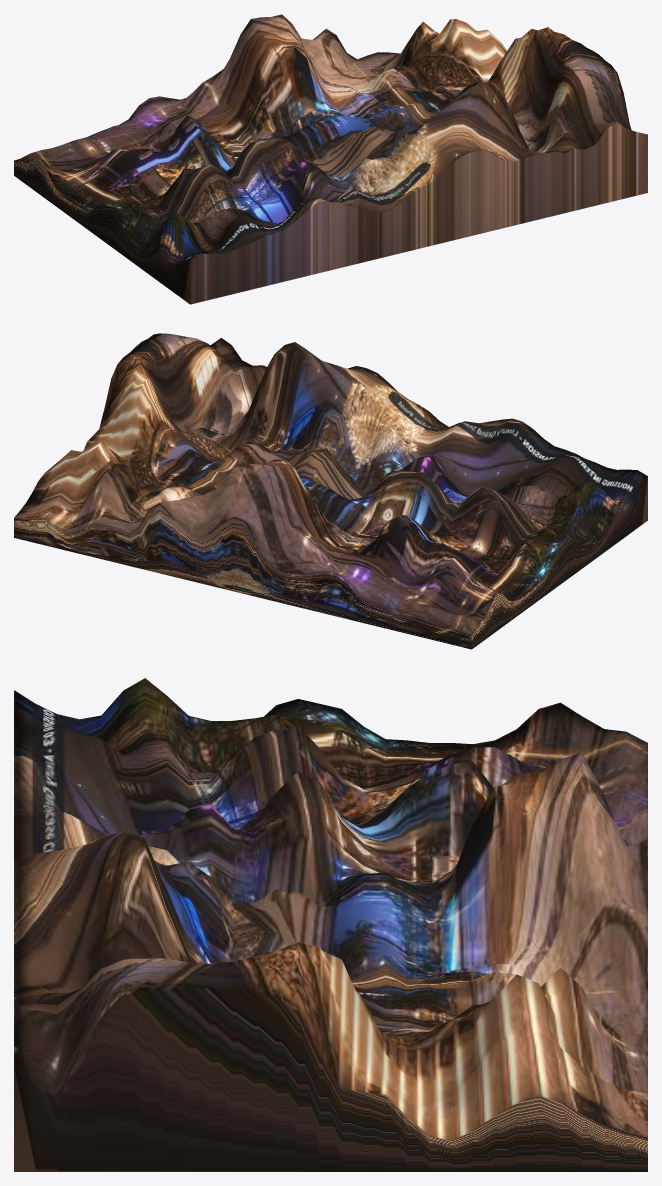
Rendered from INTERIOR_03_Mansion.glb.
The picture shows the model from 3 angles, top to bottom: view 1: azimuth 30°, elevation 25°; view 2: azimuth 150°, elevation 25°; view 3: azimuth 270°, elevation 25°; orthographic projection. The views are drawn at different scales.
Parts seen in each view (by area): view 1: INTERIOR_03_Mansion; view 2: INTERIOR_03_Mansion; view 3: INTERIOR_03_Mansion.
Part boxes in pixels (<box>): INTERIOR_03_Mansion: <box>14,14,647,304</box>; INTERIOR_03_Mansion: <box>14,333,647,649</box>; INTERIOR_03_Mansion: <box>14,678,647,1171</box>.
Bounding box in the file's own units: 2 × 0.51 × 1.33.
Materials: 1 (1 with a texture image).
